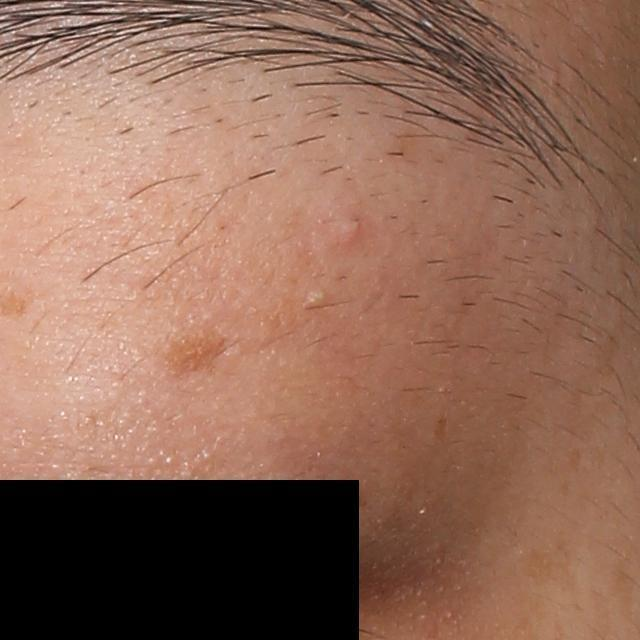melasma: (516, 539, 581, 601), (159, 329, 232, 380), (590, 565, 638, 638), (431, 413, 452, 446)
other: (304, 285, 330, 308)
papule: (332, 214, 365, 251)
